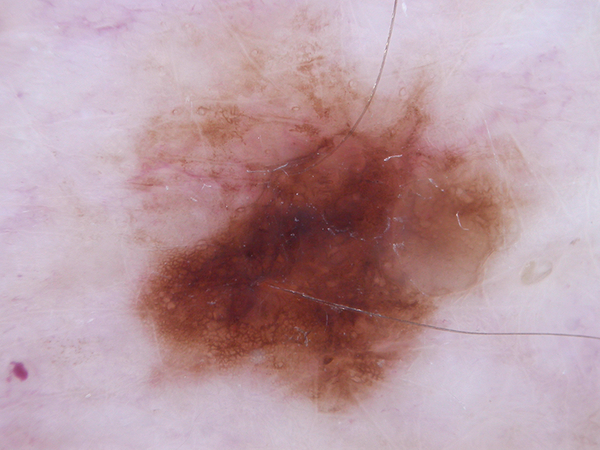Detected Lesion: (129, 89, 505, 413)
